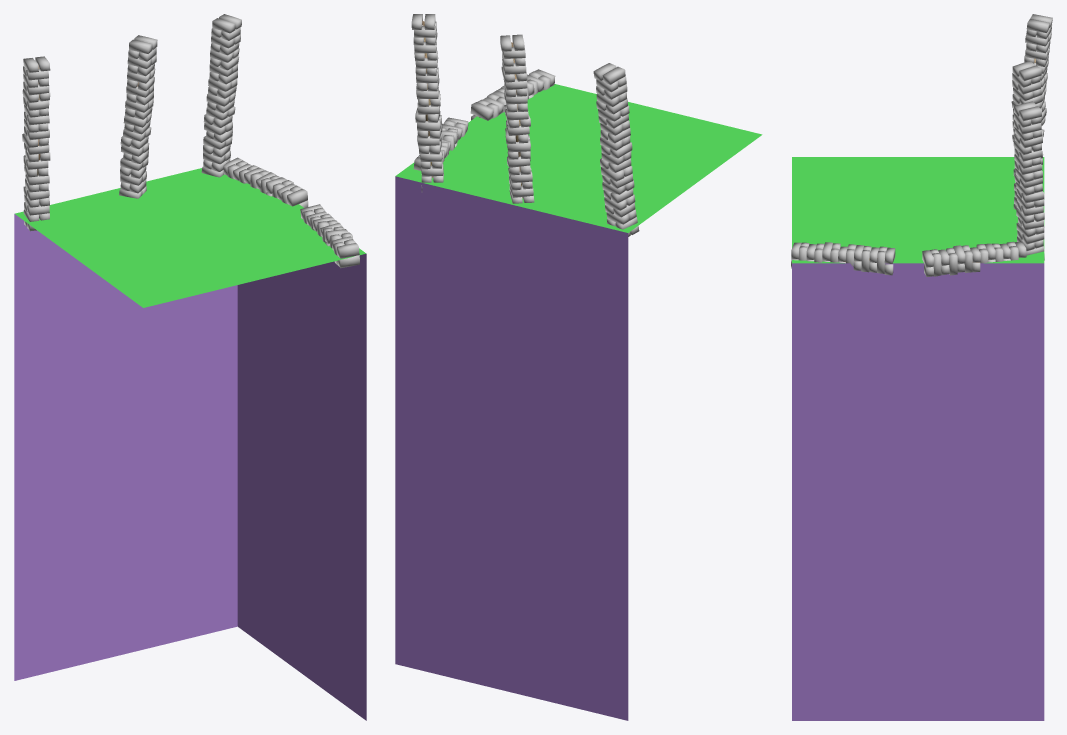
File: RoomCornder_1Lod1.fbx
3 renders of one model, left to right at view 1: azimuth 30°, elevation 25°; view 2: azimuth 150°, elevation 25°; view 3: azimuth 270°, elevation 25°, orthographic. The views are drawn at different scales.
Visible parts, largest first — view 1: RoomCornder_1.Lod1; view 2: RoomCornder_1.Lod1; view 3: RoomCornder_1.Lod1.
Part boxes in pixels (x1,y1,x2,y2): RoomCornder_1.Lod1: (14, 14, 366, 720); RoomCornder_1.Lod1: (395, 14, 762, 720); RoomCornder_1.Lod1: (791, 14, 1052, 720).
Size of the model in its own units: 419 by 1058 by 415.
